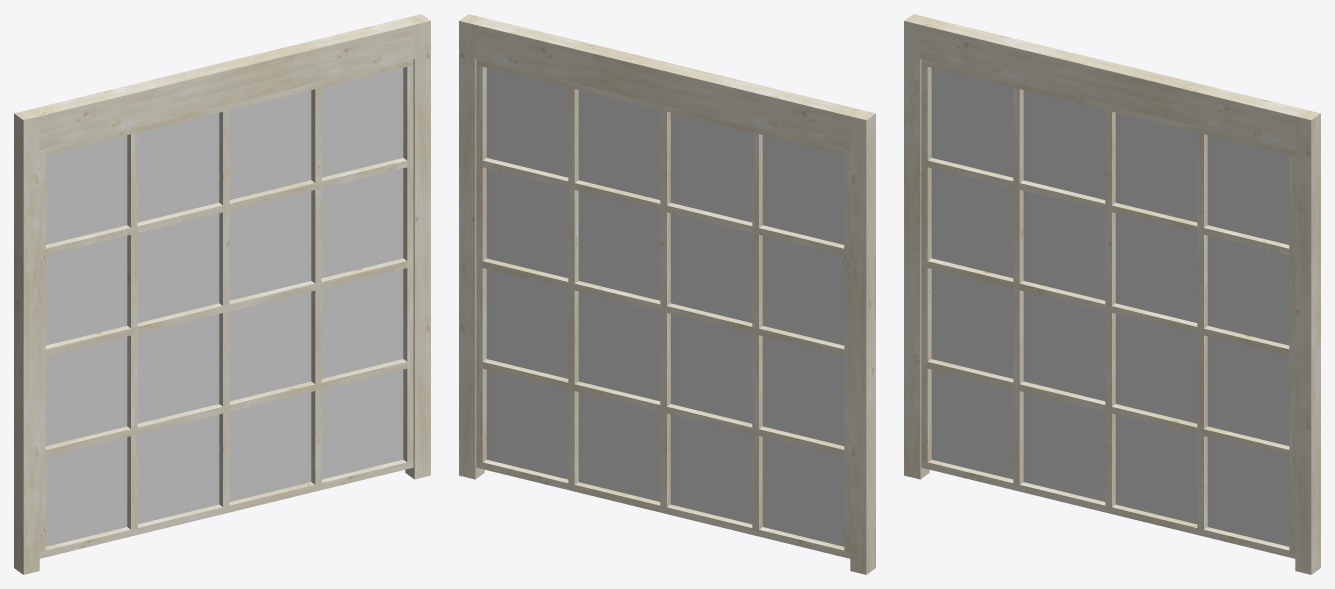
Rendered from es-policaA_h2000_whitepine.fbx.
The picture shows the model from 3 angles, left to right: view 1: azimuth 30°, elevation 25°; view 2: azimuth 150°, elevation 25°; view 3: azimuth 330°, elevation 25°; orthographic projection.
Parts seen in each view (by area): view 1: es-policaA_h2000_whitepine; view 2: es-policaA_h2000_whitepine; view 3: es-policaA_h2000_whitepine.
Part boxes in pixels (bbox=[...]): es-policaA_h2000_whitepine: bbox=[14, 14, 430, 574]; es-policaA_h2000_whitepine: bbox=[459, 14, 875, 574]; es-policaA_h2000_whitepine: bbox=[904, 14, 1320, 574].
Bounding box in the file's own units: 187 × 200 × 7.5.
2 materials, 1 textured.
